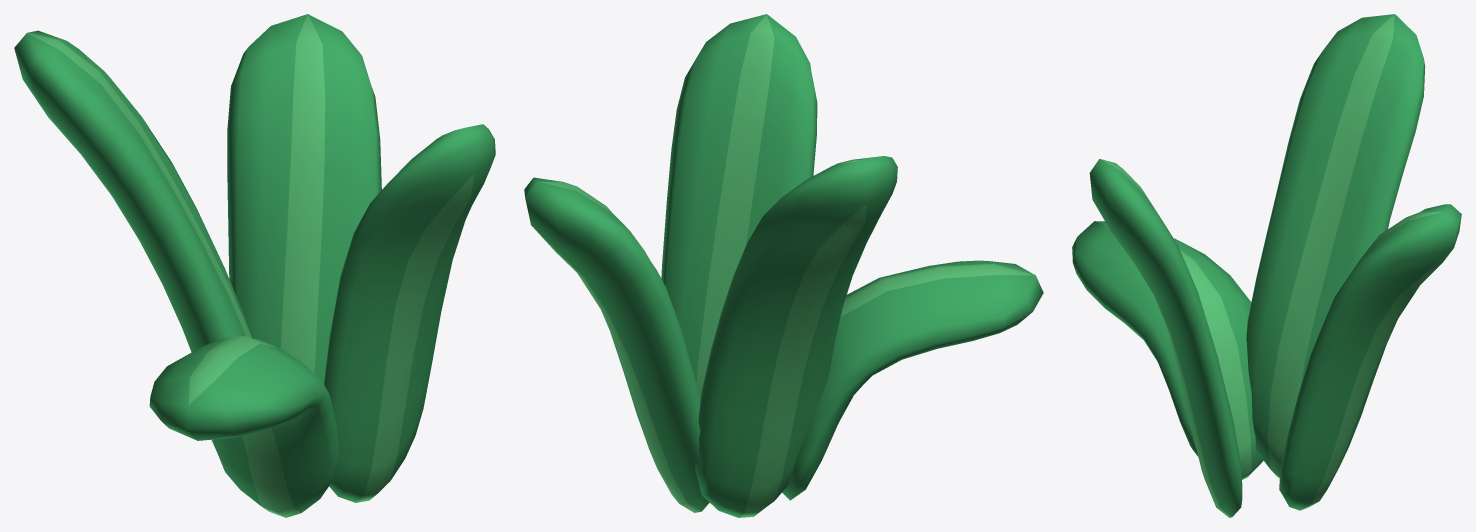
Rendered from Flora_B_03.fbx.
The picture shows the model from 3 angles, left to right: view 1: azimuth 30°, elevation 25°; view 2: azimuth 150°, elevation 25°; view 3: azimuth 270°, elevation 25°; orthographic projection. The views are drawn at different scales.
Visible parts, largest first — view 1: Flora_B_03_LOD0; view 2: Flora_B_03_LOD0; view 3: Flora_B_03_LOD0.
Boxes of the visible parts, x1,y1,x2,y2 form: Flora_B_03_LOD0: (14,14,495,517); Flora_B_03_LOD0: (524,14,1043,517); Flora_B_03_LOD0: (1072,14,1461,517).
Size of what is drawn, in the model's own units: 283 by 345 by 306.
